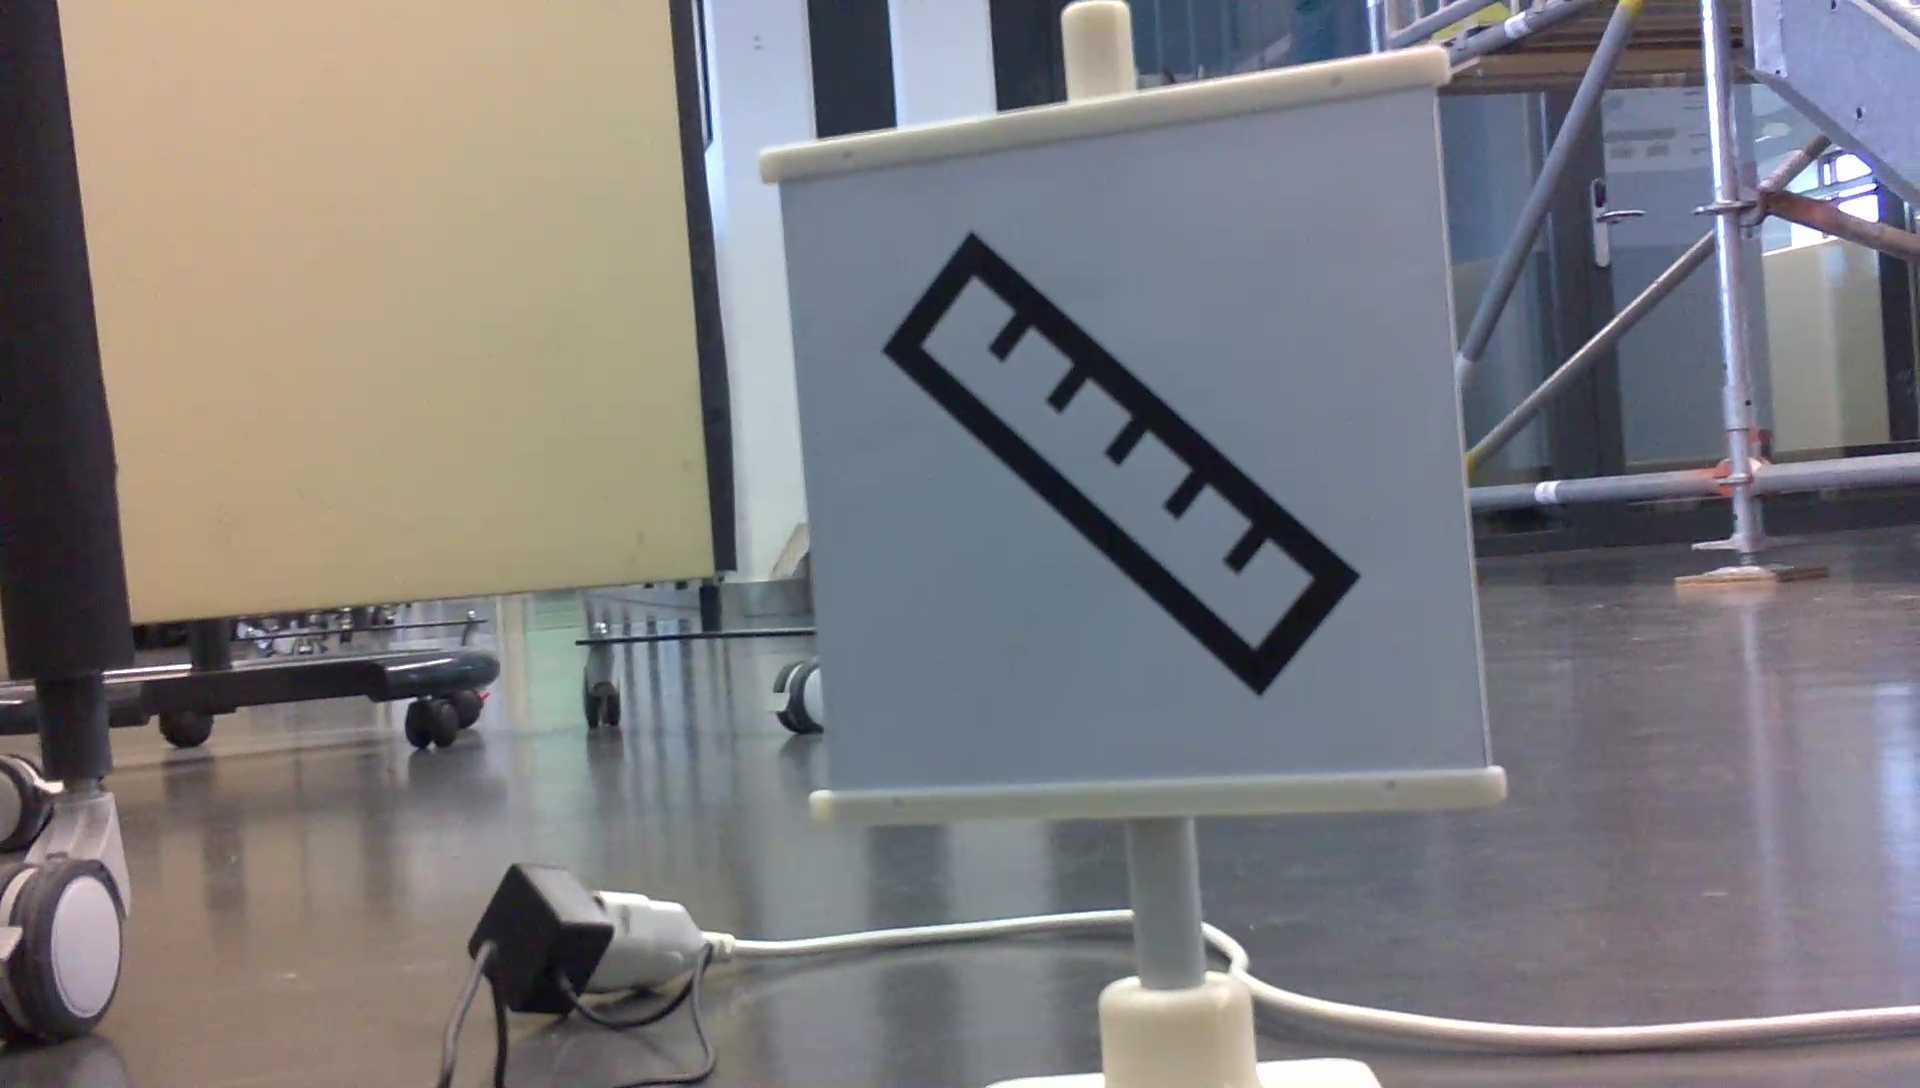ruler: (878, 223, 1367, 699)
